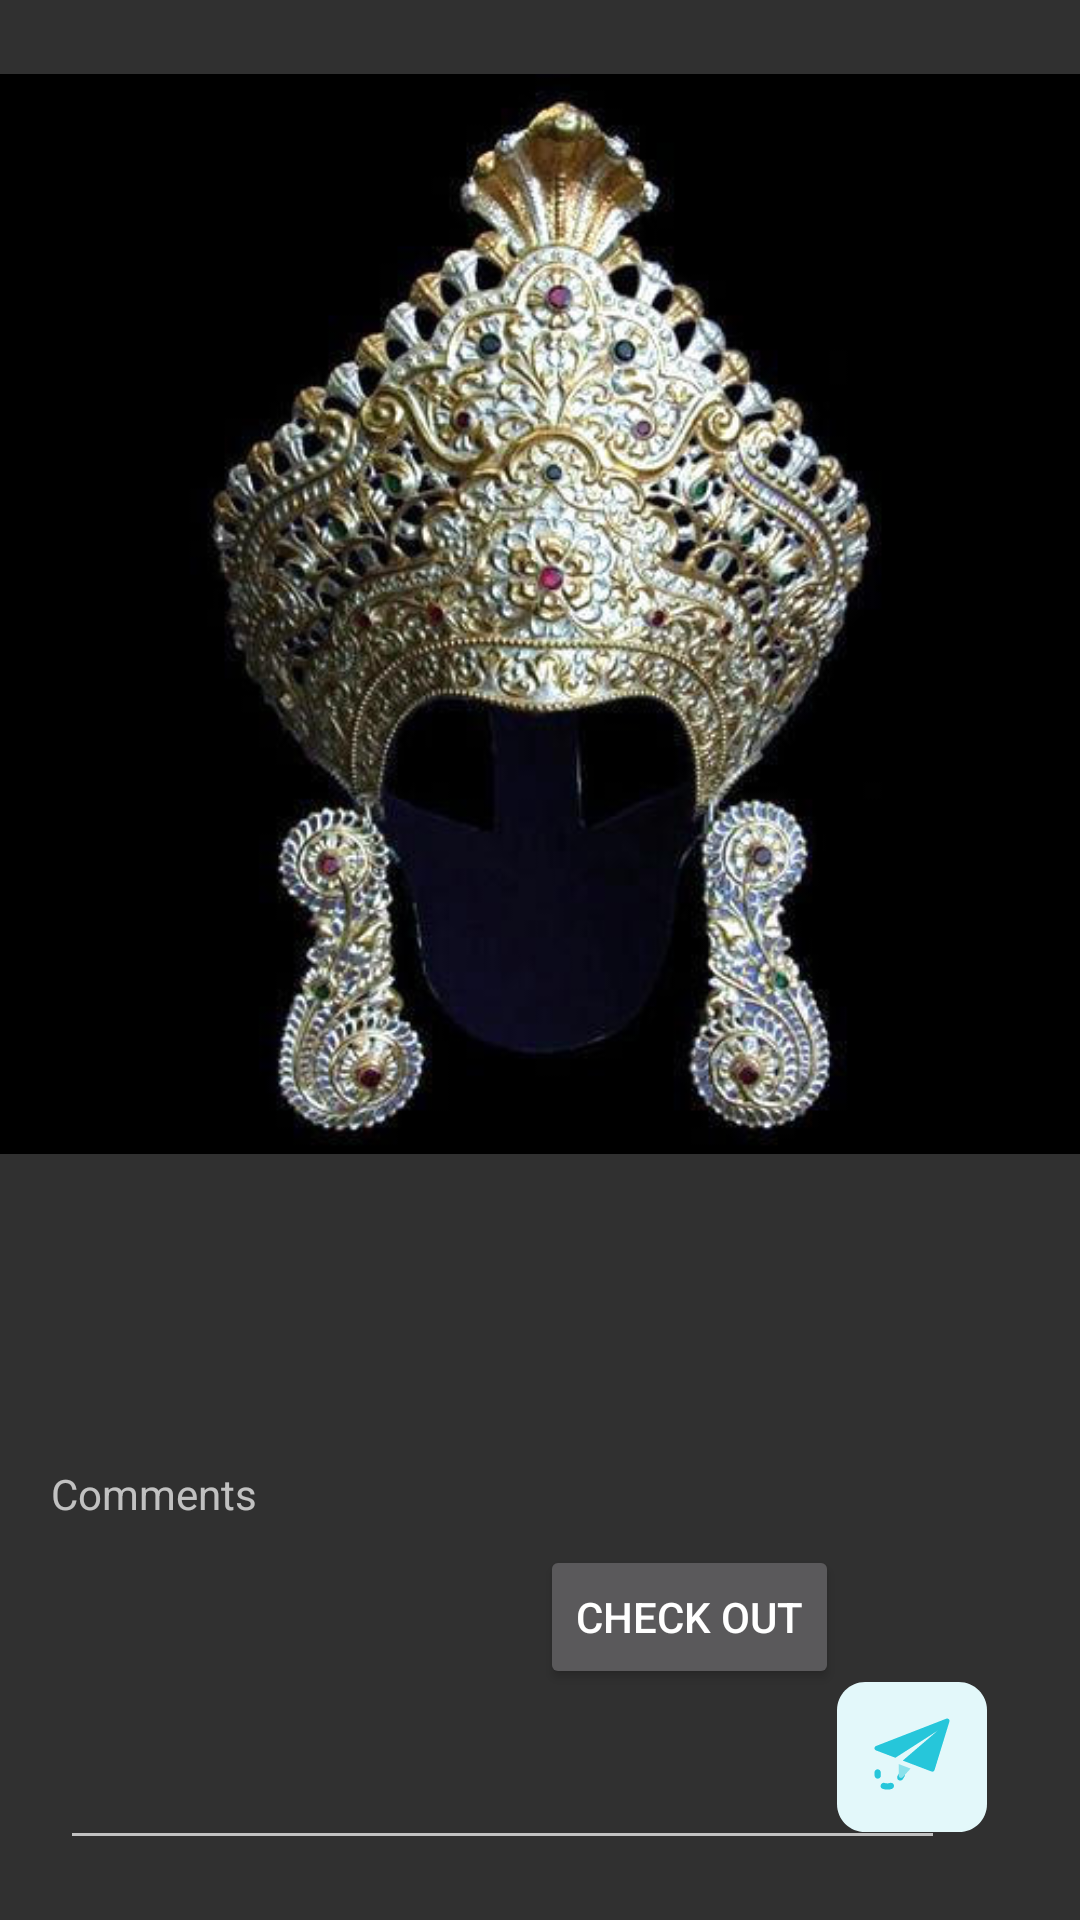

Icons on this 1080×1920 Android screen, each with its box as rect(x1, y1, x2, y2):
sendbtn: rect(837, 1682, 987, 1832)
